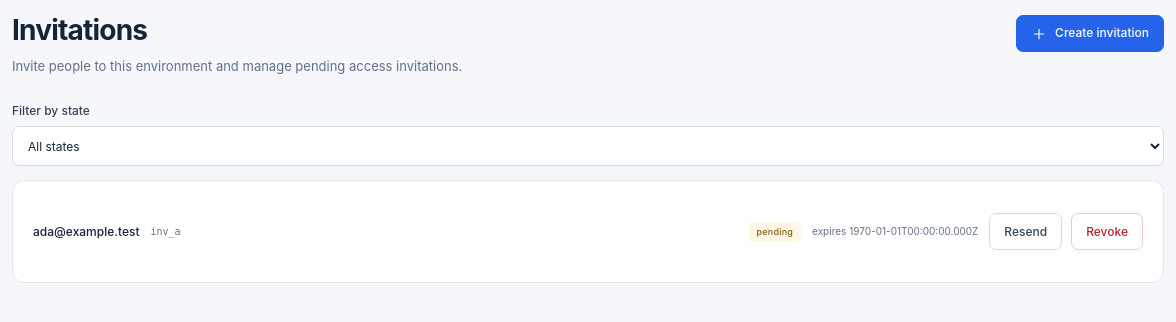
Test: acting on a pending invitation › revokes only after an explicit confirm through the documented path
The image size is (1176, 322).
Click the button "Revoke" at {"x": 1107, "y": 232}, box 1071,213 -> 1143,250
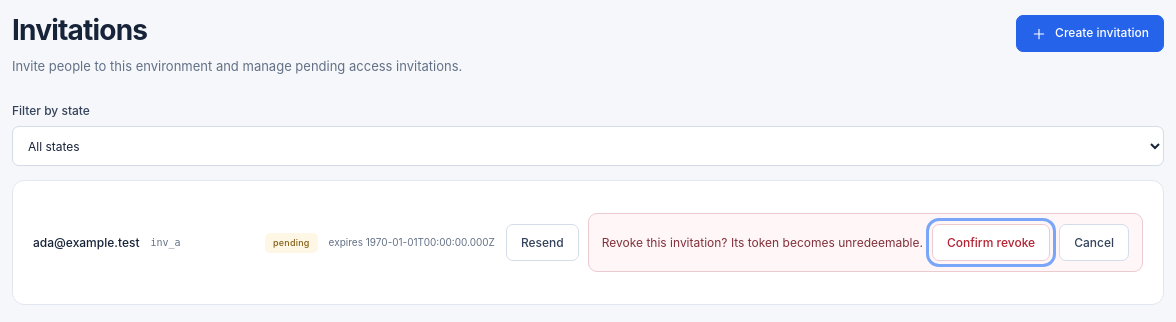
Click the button "Confirm revoke" at {"x": 991, "y": 243}, box 932,224 -> 1050,261
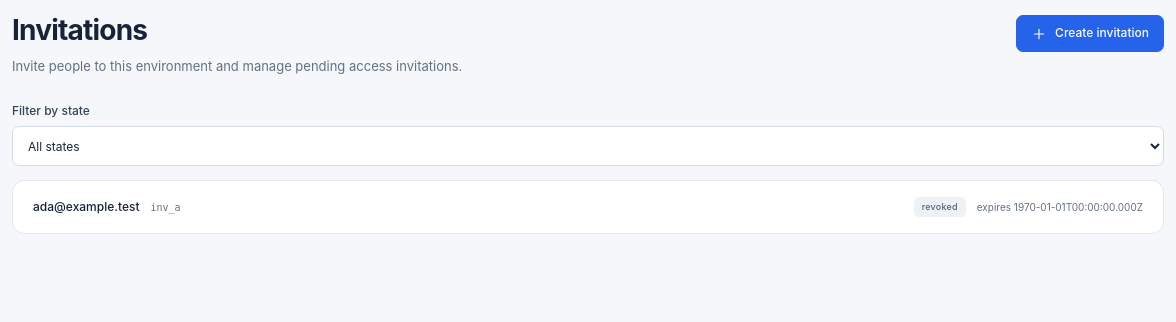
Expected: the text "revoked" is shown, 914,197 -> 966,217
